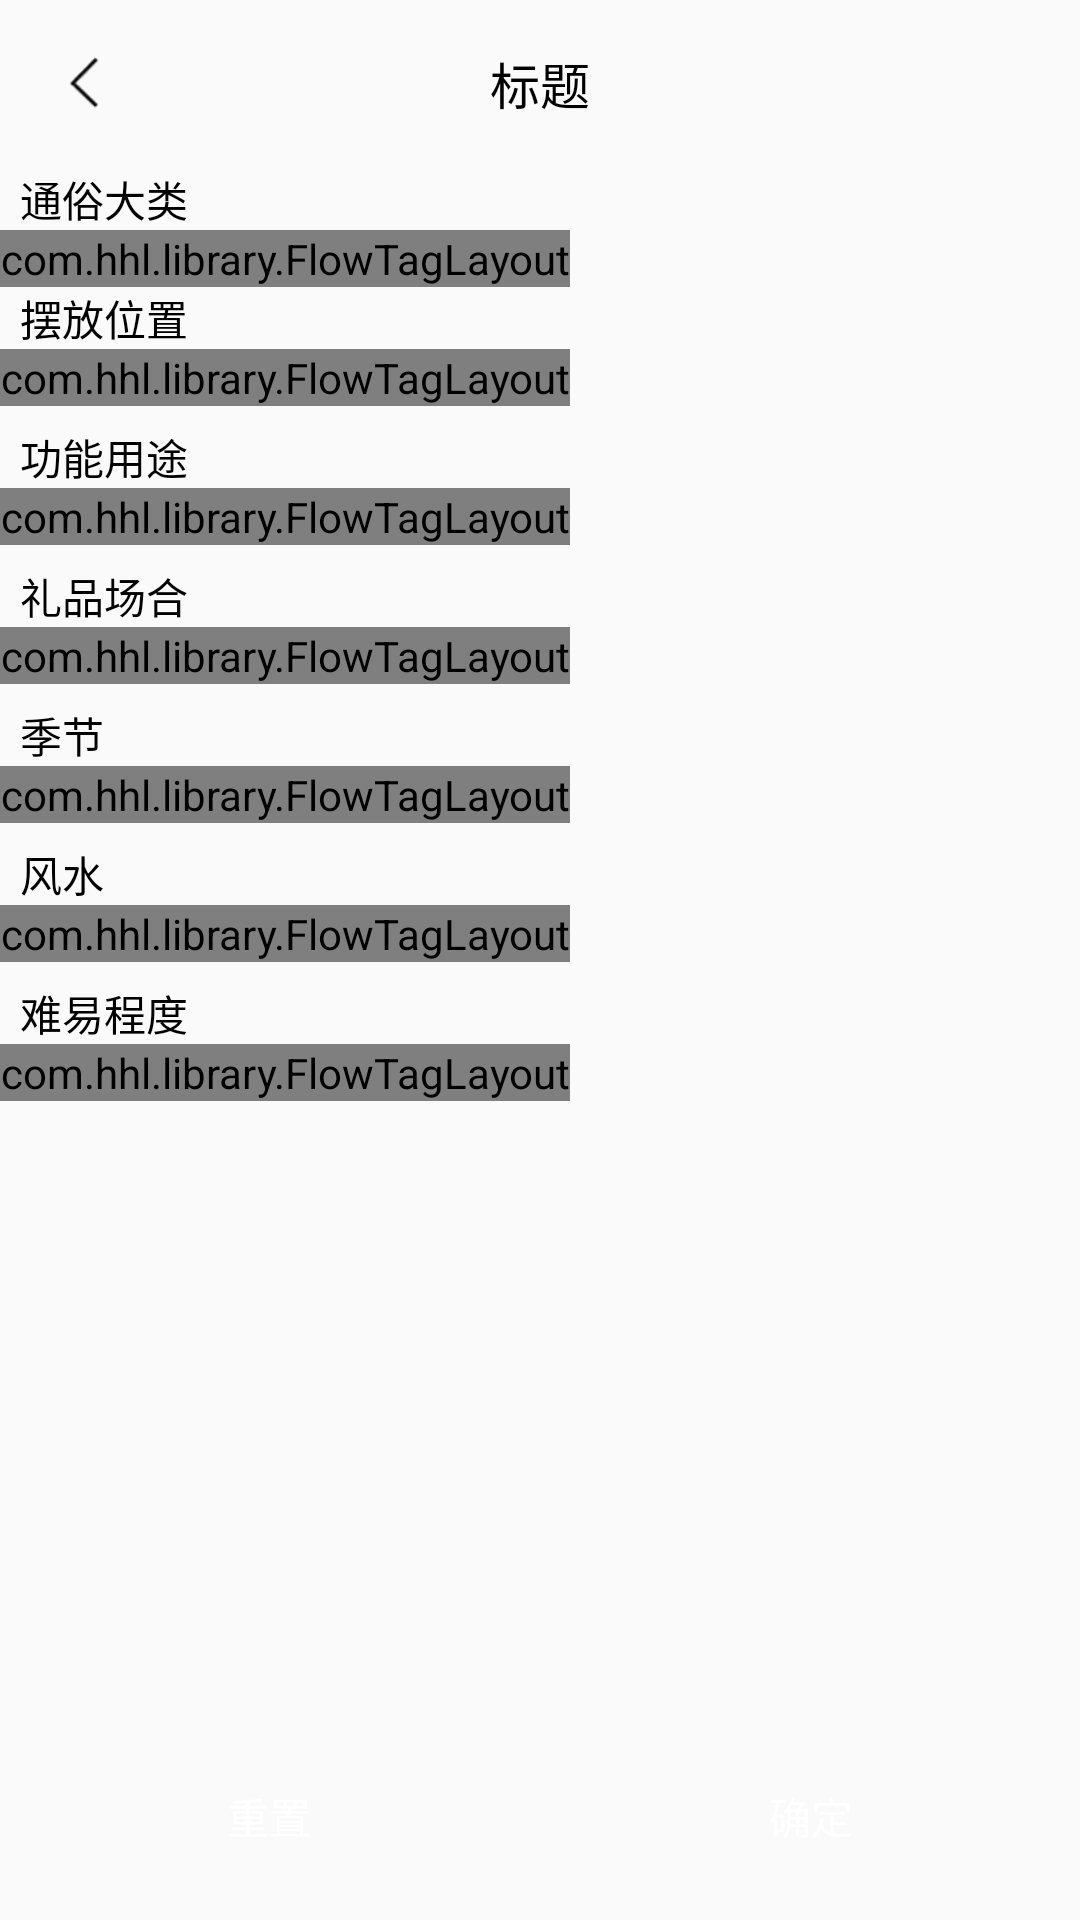

Named icons in this screenshot (1080×1920) and their centers, (x,y):
back: (84,82)
